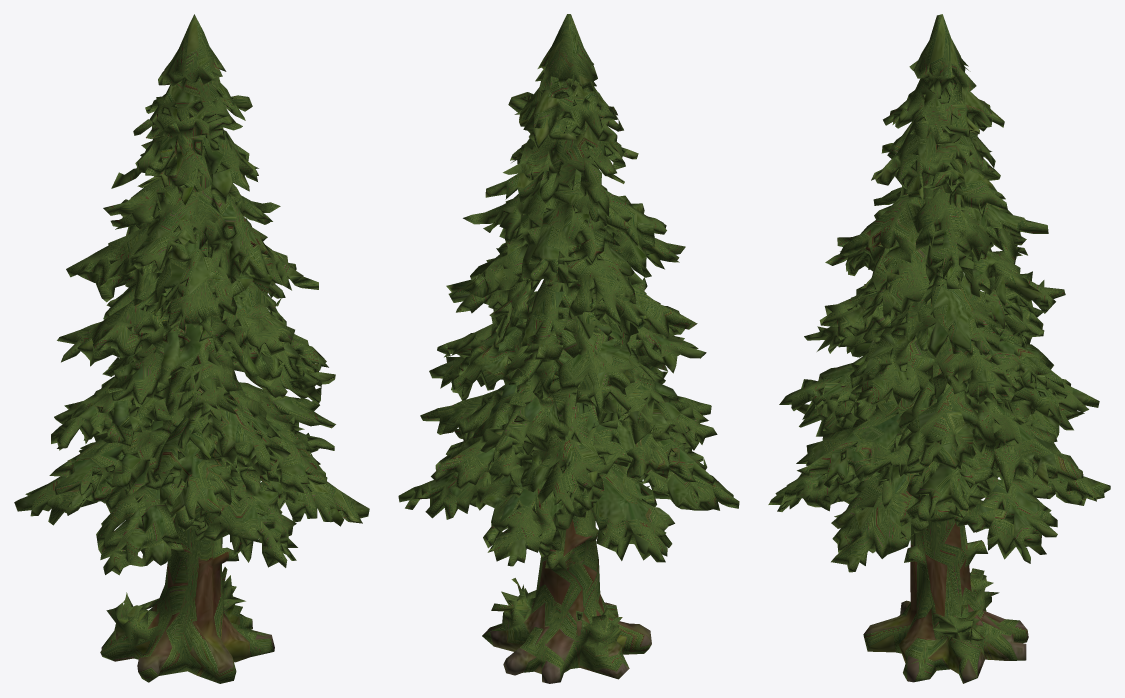
Rendered from pine.glb.
3 views of the same model, side by side, from view 1: azimuth 30°, elevation 25°; view 2: azimuth 150°, elevation 25°; view 3: azimuth 270°, elevation 25° (orthographic).
Bounding box in the file's own units: 0.8717 × 1.9 × 0.9244.
1 material, 1 textured.
